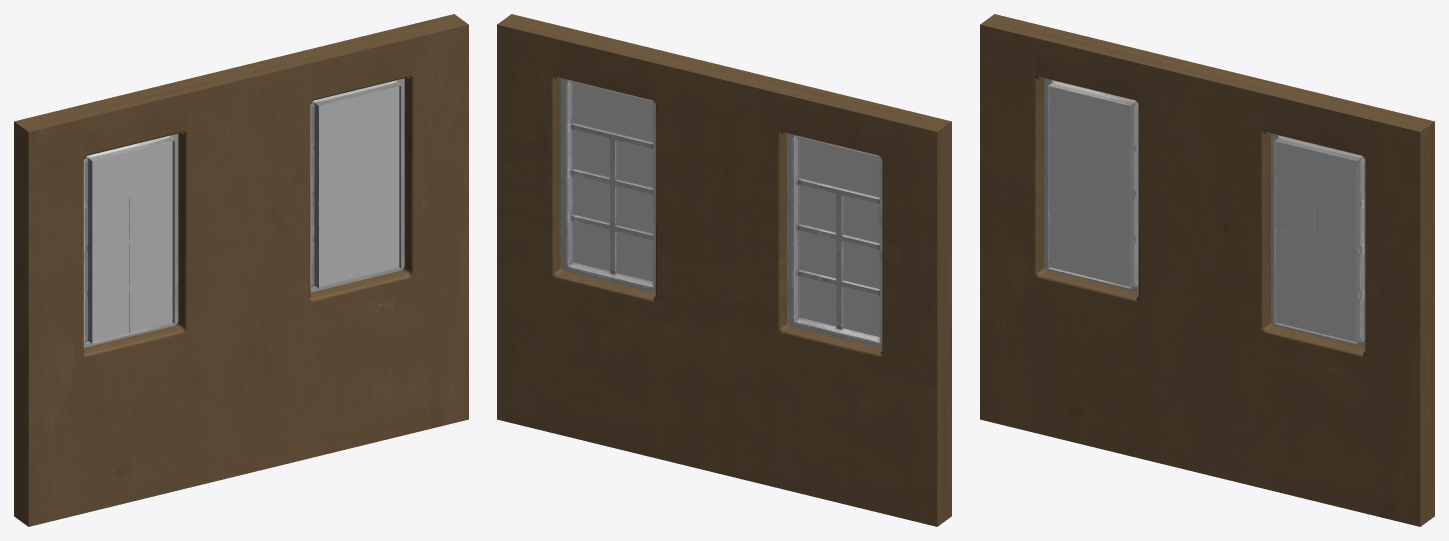
Rendered from SM_Building02Wall06R.fbx.
3 views of the same model, side by side, from view 1: azimuth 30°, elevation 25°; view 2: azimuth 150°, elevation 25°; view 3: azimuth 330°, elevation 25° (orthographic).
Visible parts, largest first — view 1: SM_Building02Wall06R_LOD0; view 2: SM_Building02Wall06R_LOD0; view 3: SM_Building02Wall06R_LOD0.
Boxes of the visible parts, x1=… form: SM_Building02Wall06R_LOD0: x1=14, y1=14, x2=468, y2=526; SM_Building02Wall06R_LOD0: x1=497, y1=14, x2=951, y2=526; SM_Building02Wall06R_LOD0: x1=980, y1=14, x2=1434, y2=526.
Size of the model in its own units: 350 by 20 by 300.
3 materials, 2 textured.
